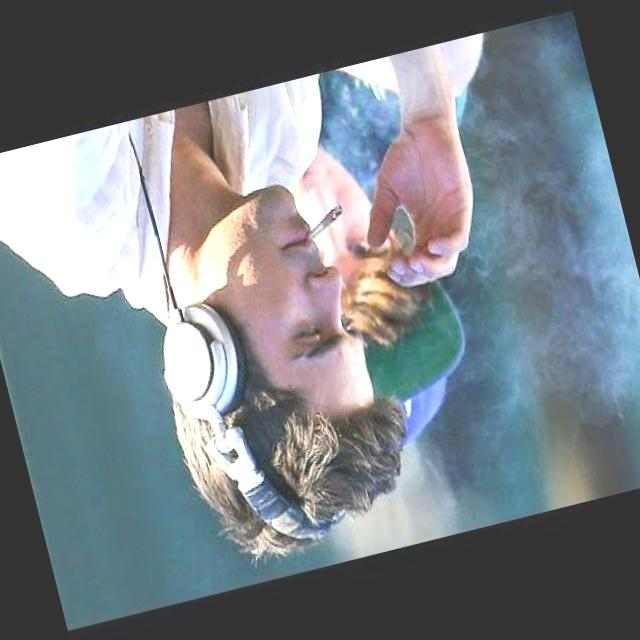smoke: (292, 182, 369, 256)
